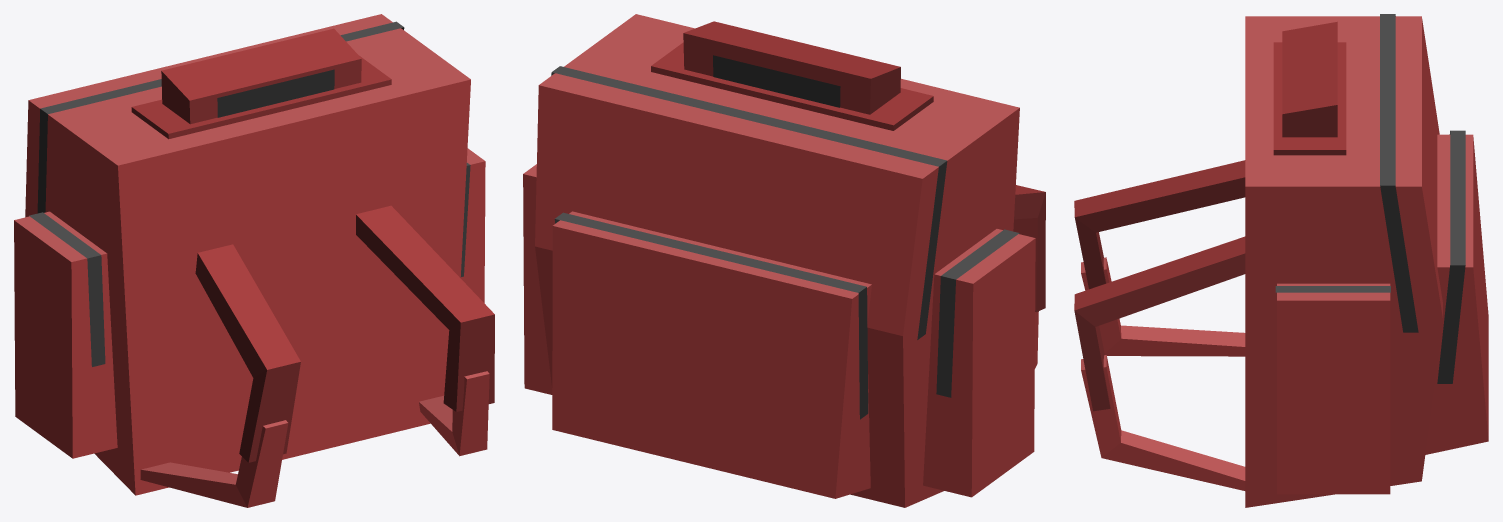
Rendered from Item_Backpack03.FBX.
3 views of the same model, side by side, from view 1: azimuth 30°, elevation 25°; view 2: azimuth 150°, elevation 25°; view 3: azimuth 270°, elevation 25° (orthographic). The views are drawn at different scales.
Visible parts, largest first — view 1: Item_Backpack03; view 2: Item_Backpack03; view 3: Item_Backpack03.
Part boxes in pixels (box(x1,y1,x2,y2)): Item_Backpack03: box(14, 14, 494, 507); Item_Backpack03: box(523, 14, 1045, 507); Item_Backpack03: box(1074, 14, 1488, 507).
Size of the model in its own units: 48.36 by 41.63 by 42.46.
